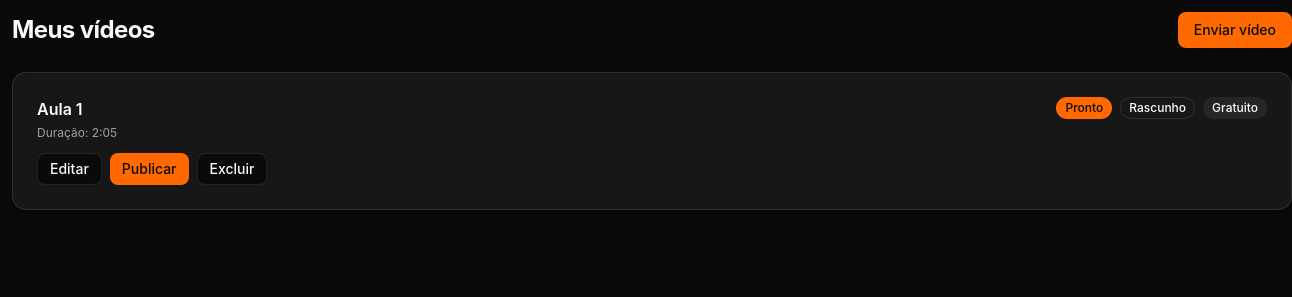
Scenario: MyVideosPage › shows the API error when an action fails
What coordinates should you click on to do the following:
click the button with aria-label "Excluir Aula 1"
I would click on:
 (232, 169)
Its box is [196,153,267,185].
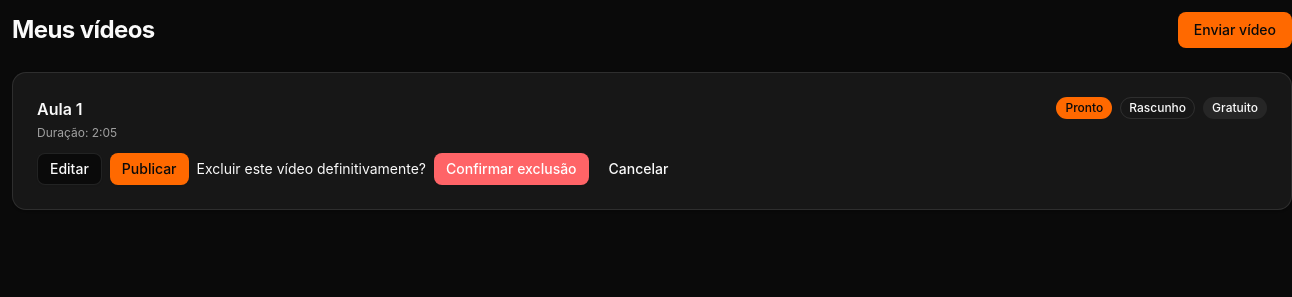
What coordinates should you click on to do the following:
click the button "Confirmar exclusão"
I would click on:
 (511, 169)
Its box is [434,153,588,185].
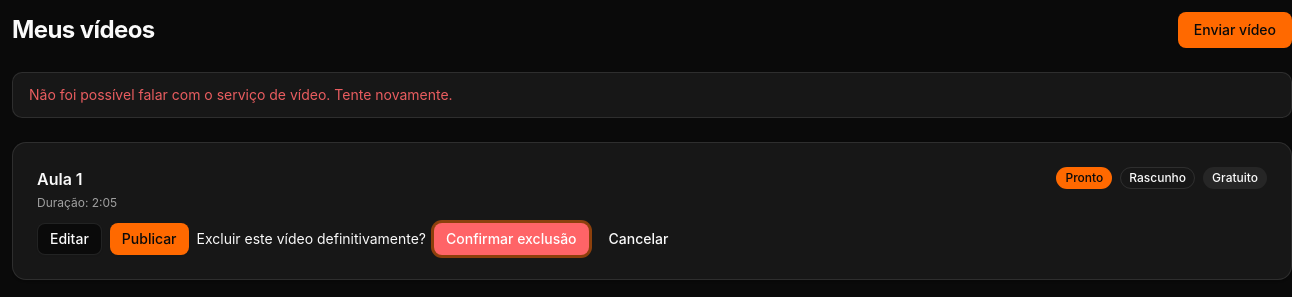
Expected: the heading "Aula 1" is shown, [37,169,83,189]
Expected: the text "Não foi possível falar com o serviço de vídeo. Tente novamente." is shown, [29,86,453,103]
